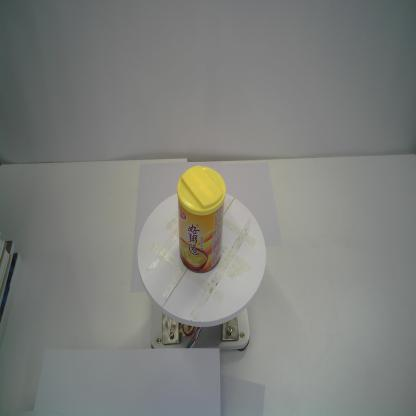Canned Food: (176, 165, 227, 275)
